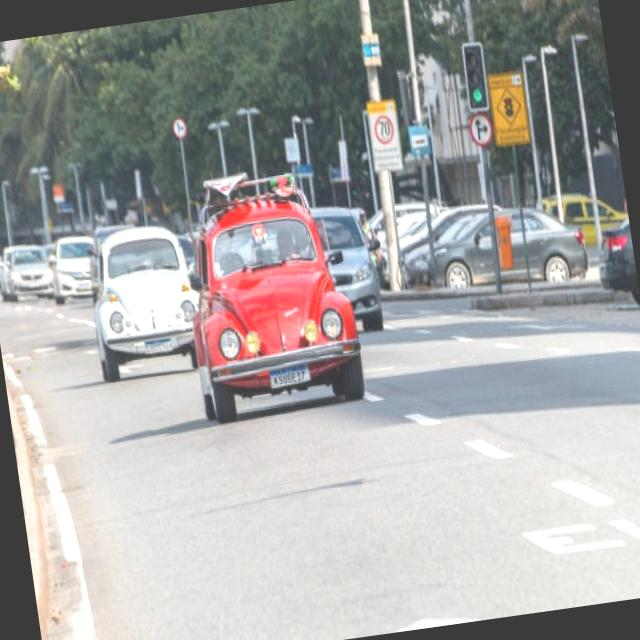car: (174, 178, 368, 424), (78, 212, 208, 374), (1, 236, 56, 307), (49, 233, 104, 300)
